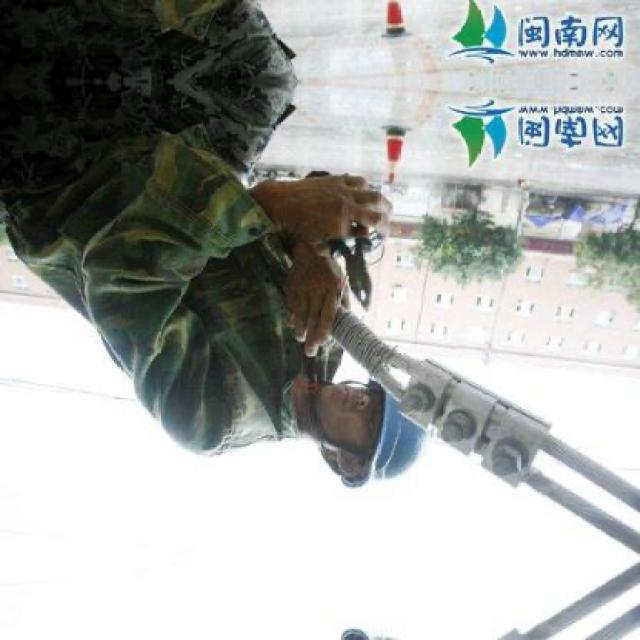con casco: (266, 391, 416, 534)
